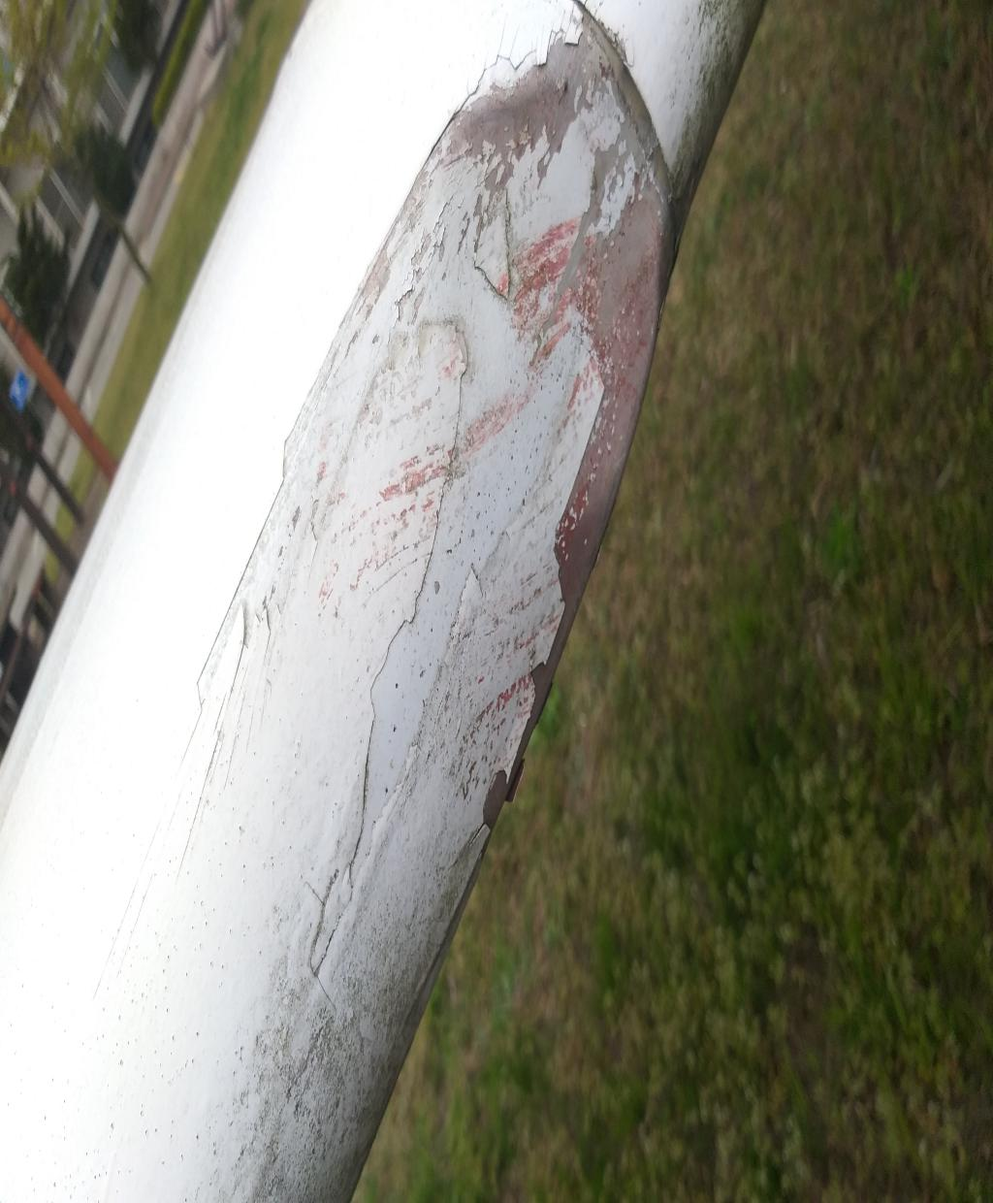corrosion: (186, 634, 558, 1203)
